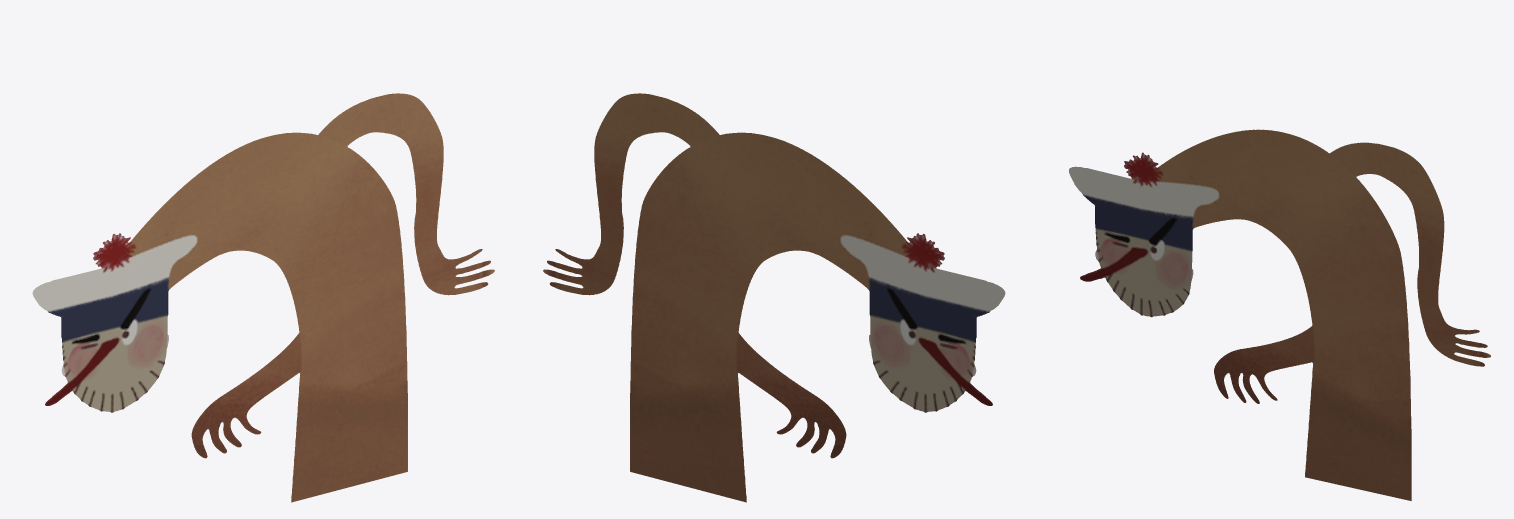
File: Mariner_giro.FBX
3 views of the same model, side by side, from view 1: azimuth 30°, elevation 25°; view 2: azimuth 150°, elevation 25°; view 3: azimuth 330°, elevation 25° (orthographic). The views are drawn at different scales.
Visible parts, largest first — view 1: mariner; view 2: mariner; view 3: mariner.
Part boxes in pixels (<box>): mariner: <box>32,93,494,502</box>; mariner: <box>543,93,1005,502</box>; mariner: <box>1069,129,1490,500</box>.
Size of the model in its own units: 14.57 by 5.53e-07 by 12.65.
